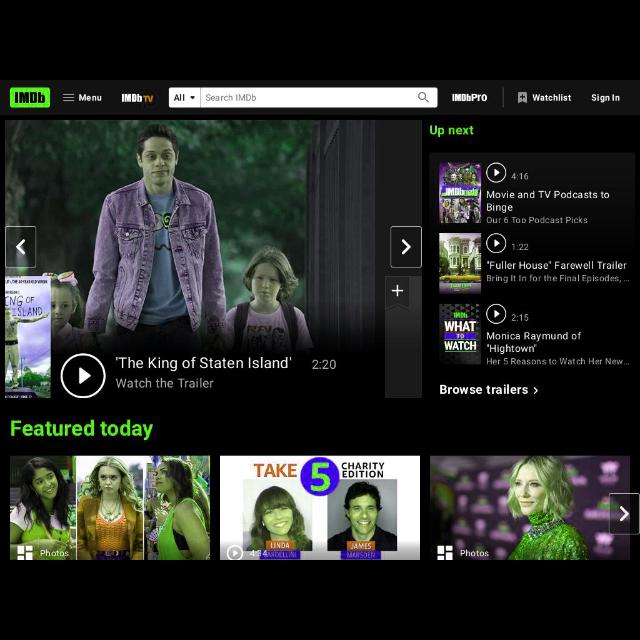button: (60, 352, 106, 400), (6, 226, 36, 268), (391, 227, 422, 267), (610, 494, 638, 534), (487, 162, 508, 184), (488, 232, 507, 254), (486, 304, 506, 324)
icon: (79, 367, 91, 385), (15, 238, 27, 256), (399, 240, 411, 254), (392, 285, 404, 297), (620, 506, 628, 524), (517, 92, 527, 104), (418, 92, 429, 102), (64, 93, 74, 103), (492, 310, 500, 318), (494, 168, 500, 178), (532, 386, 538, 394), (494, 238, 498, 248), (190, 94, 193, 100)
image: (5, 120, 423, 352), (10, 456, 210, 560), (221, 456, 419, 560), (430, 456, 630, 558), (5, 278, 50, 398), (10, 88, 50, 106), (451, 92, 487, 101), (120, 94, 152, 102)
input: (201, 89, 437, 107)
spinner: (170, 88, 202, 108)
text: (11, 419, 152, 441), (484, 190, 610, 213), (115, 356, 291, 372), (486, 331, 582, 355), (486, 260, 628, 272), (486, 274, 630, 284), (486, 357, 628, 367), (114, 378, 213, 390), (487, 214, 588, 223), (439, 384, 528, 394), (430, 124, 474, 138), (206, 93, 258, 103), (532, 94, 572, 102), (312, 358, 336, 370), (590, 94, 620, 102), (511, 171, 532, 181), (510, 312, 530, 322), (511, 242, 529, 252), (79, 94, 101, 102), (174, 93, 186, 103)
toolbar: (1, 80, 639, 114)
